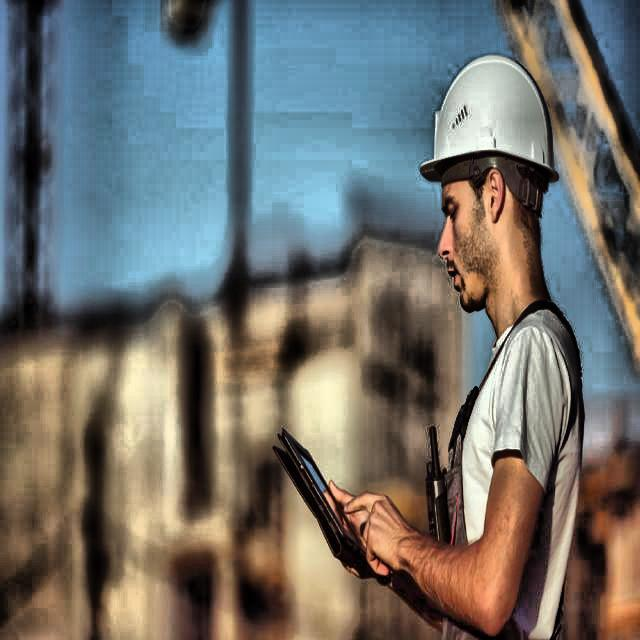person: (412, 46, 593, 640)
